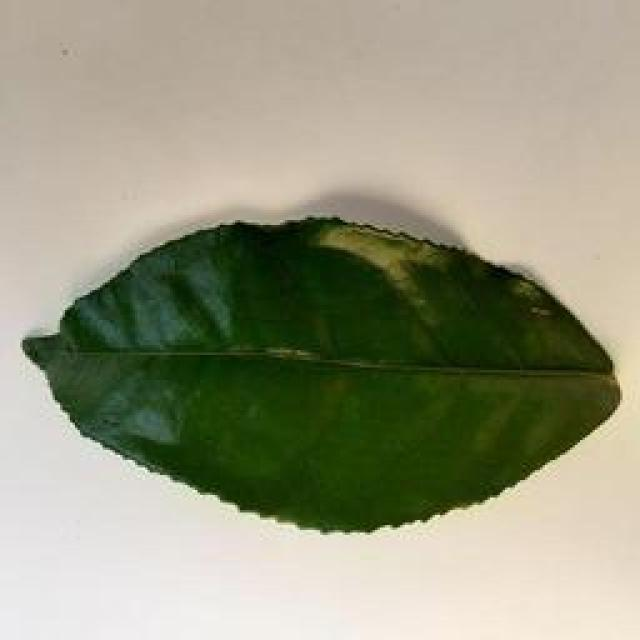Healthy: (33, 200, 619, 530)
